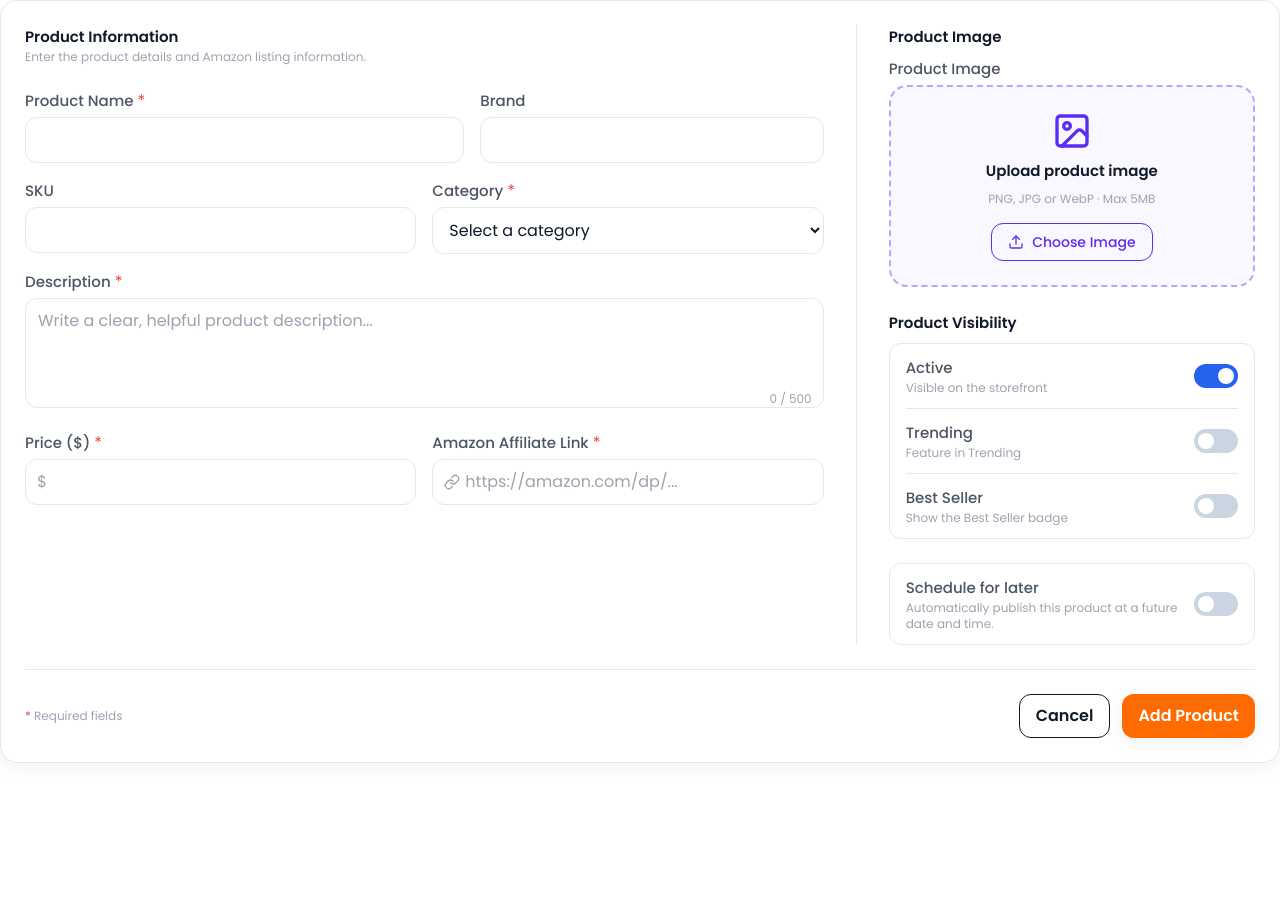
it: ProductForm › rejects a scheduled date that is not in the future
This screenshot has width=1280, height=900.
Type "Wireless Earbuds" into the field labelled "Product Name" at [245, 140], box [25, 117, 464, 163]
Select "Electronics" in the dropdown labelled "Category" at [628, 230], box [432, 207, 824, 254]
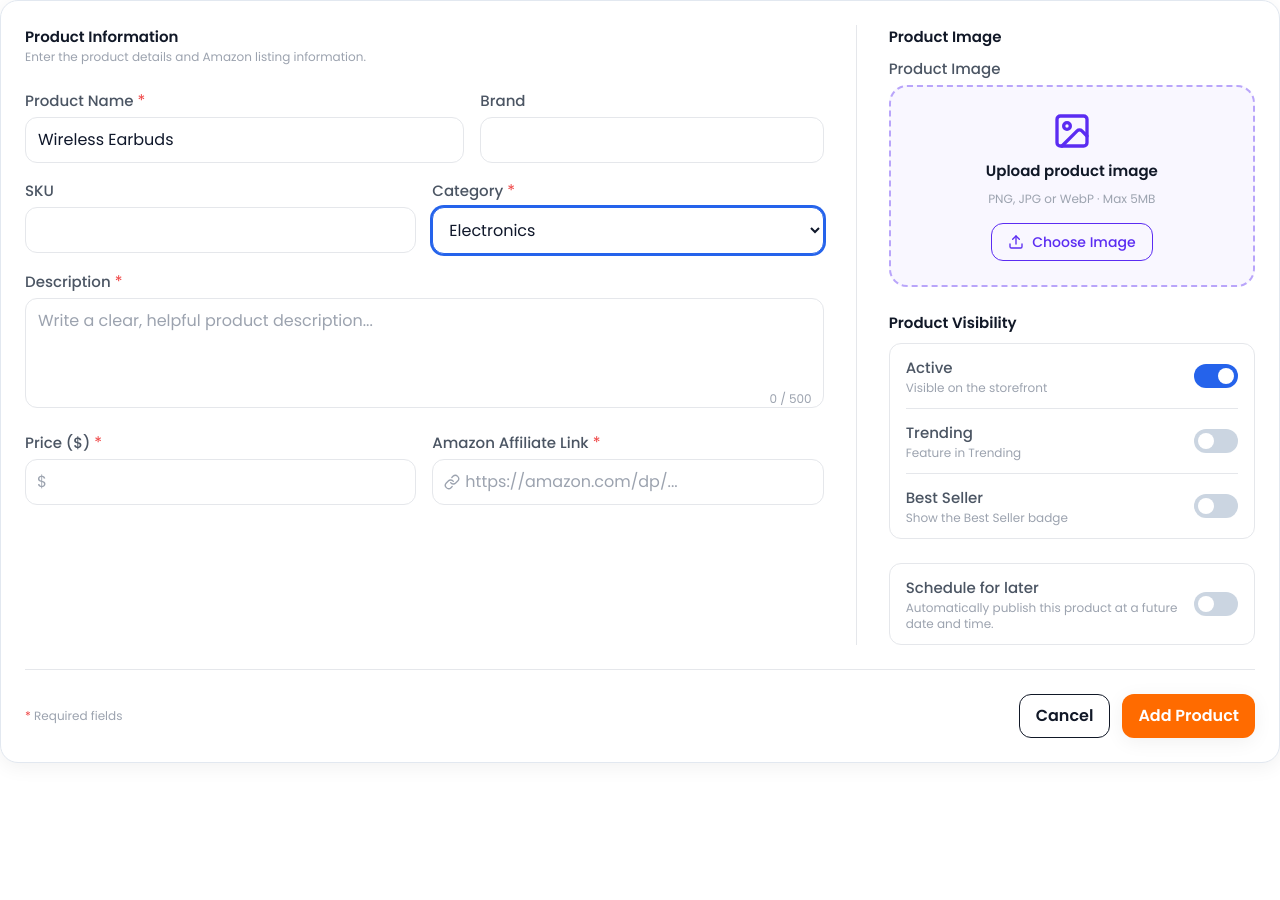
Type "Compact wireless earbuds." into the text box labelled "Description" at [424, 353], box [25, 298, 824, 408]
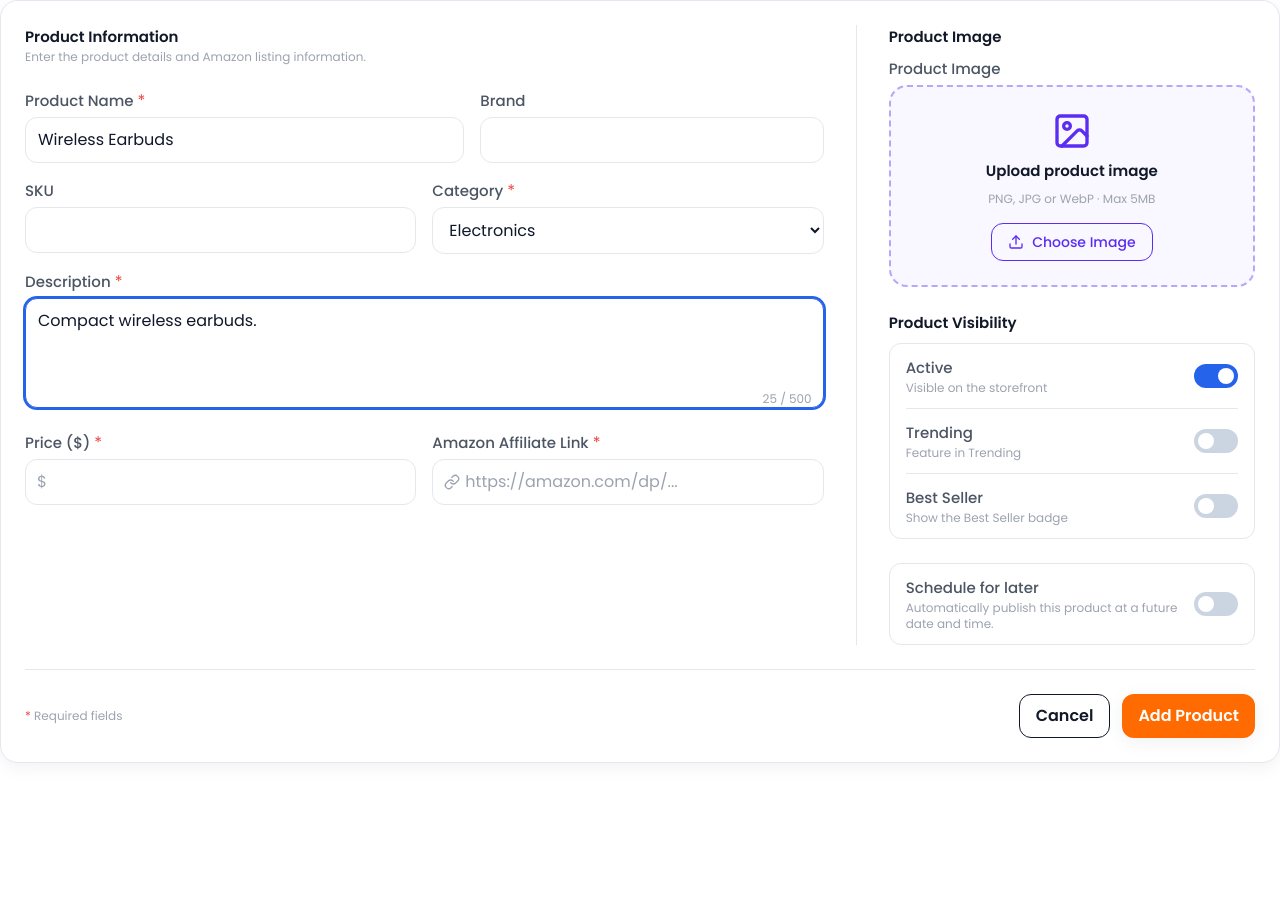
Type "49.99" into the number field labelled "Price ($)" at [221, 482], box [25, 459, 416, 505]
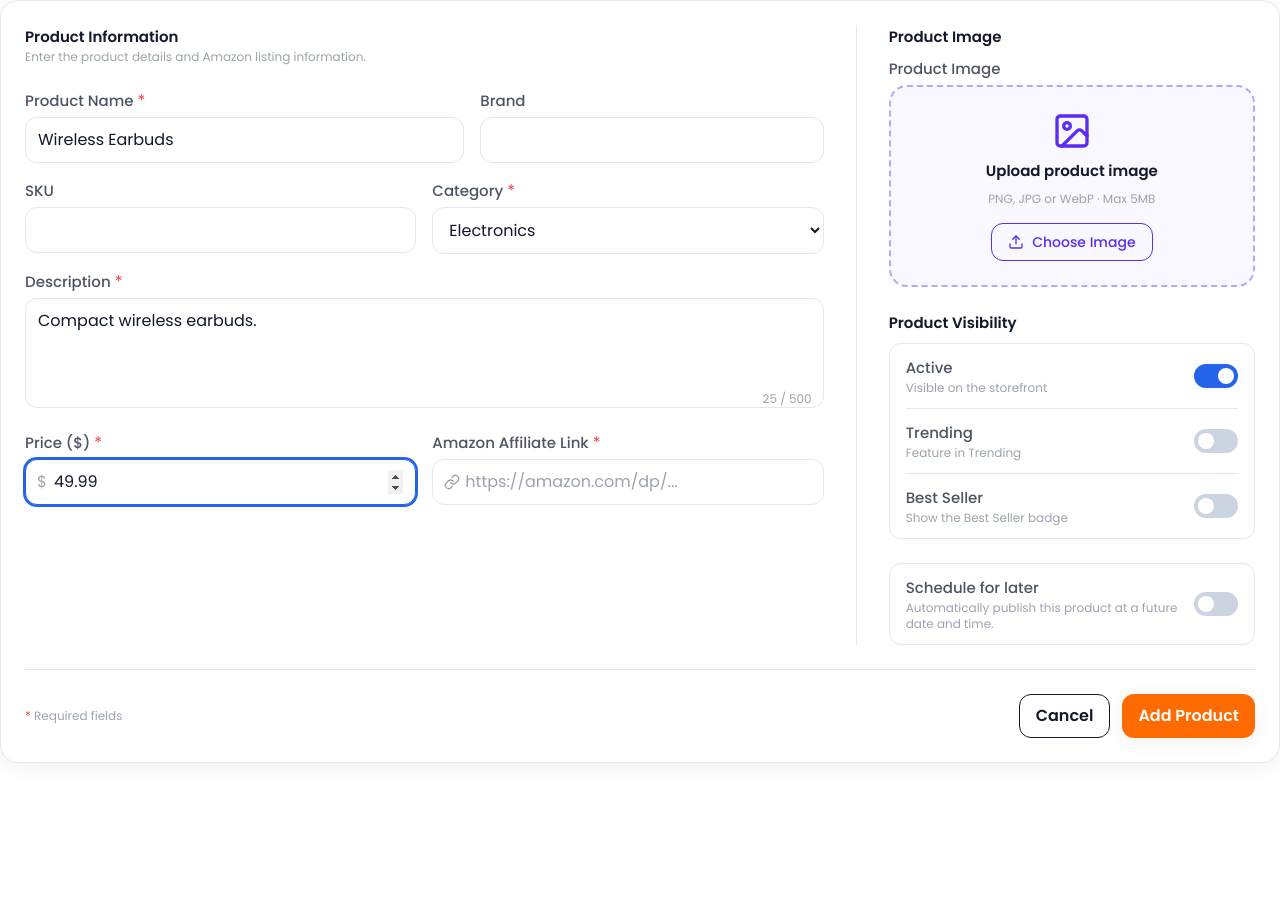
Type "https://amazon.com/dp/example" into the field labelled "Amazon Affiliate Link" at [628, 482], box [432, 459, 824, 505]
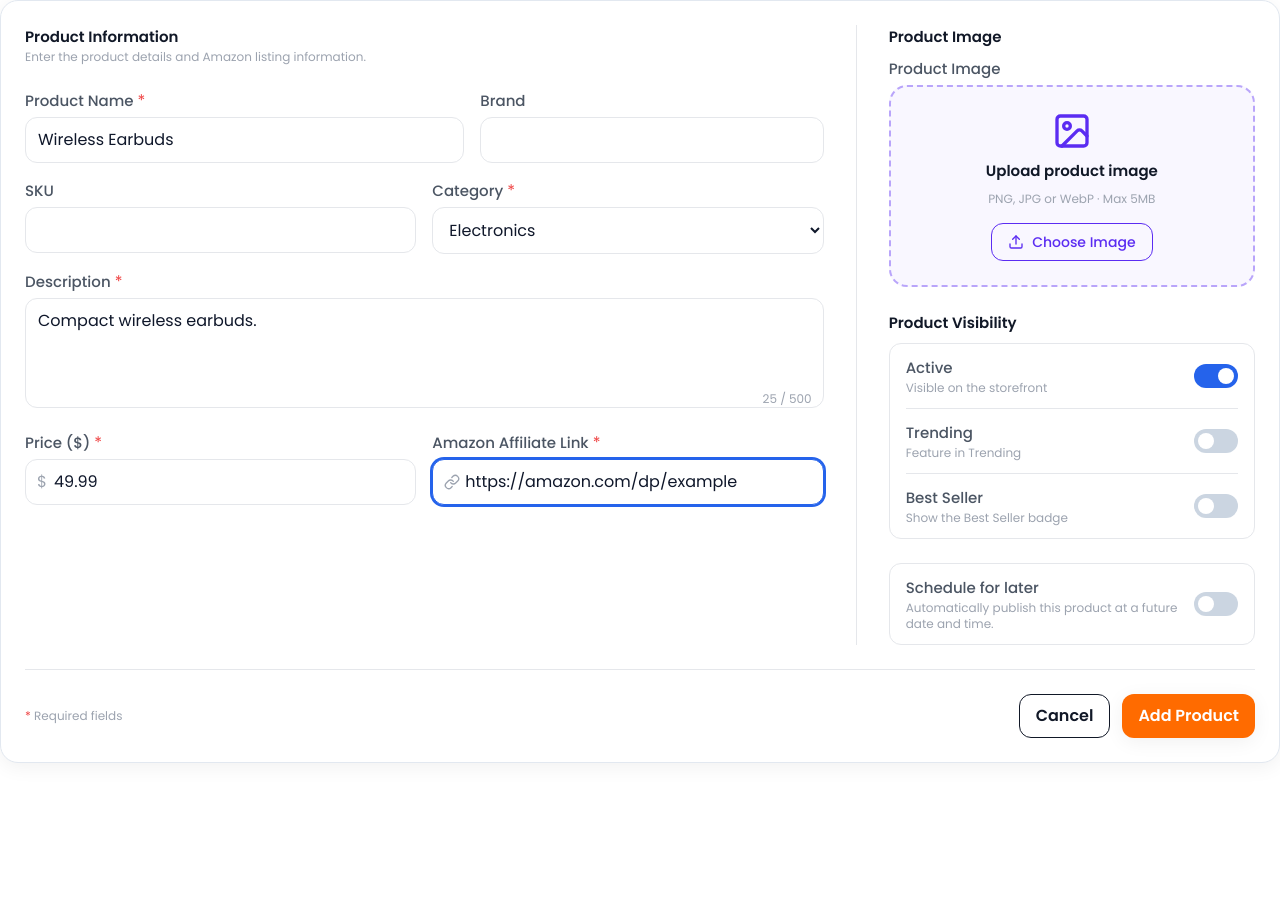
Click the switch named "Schedule for later" at [1216, 604], box [1194, 592, 1238, 616]
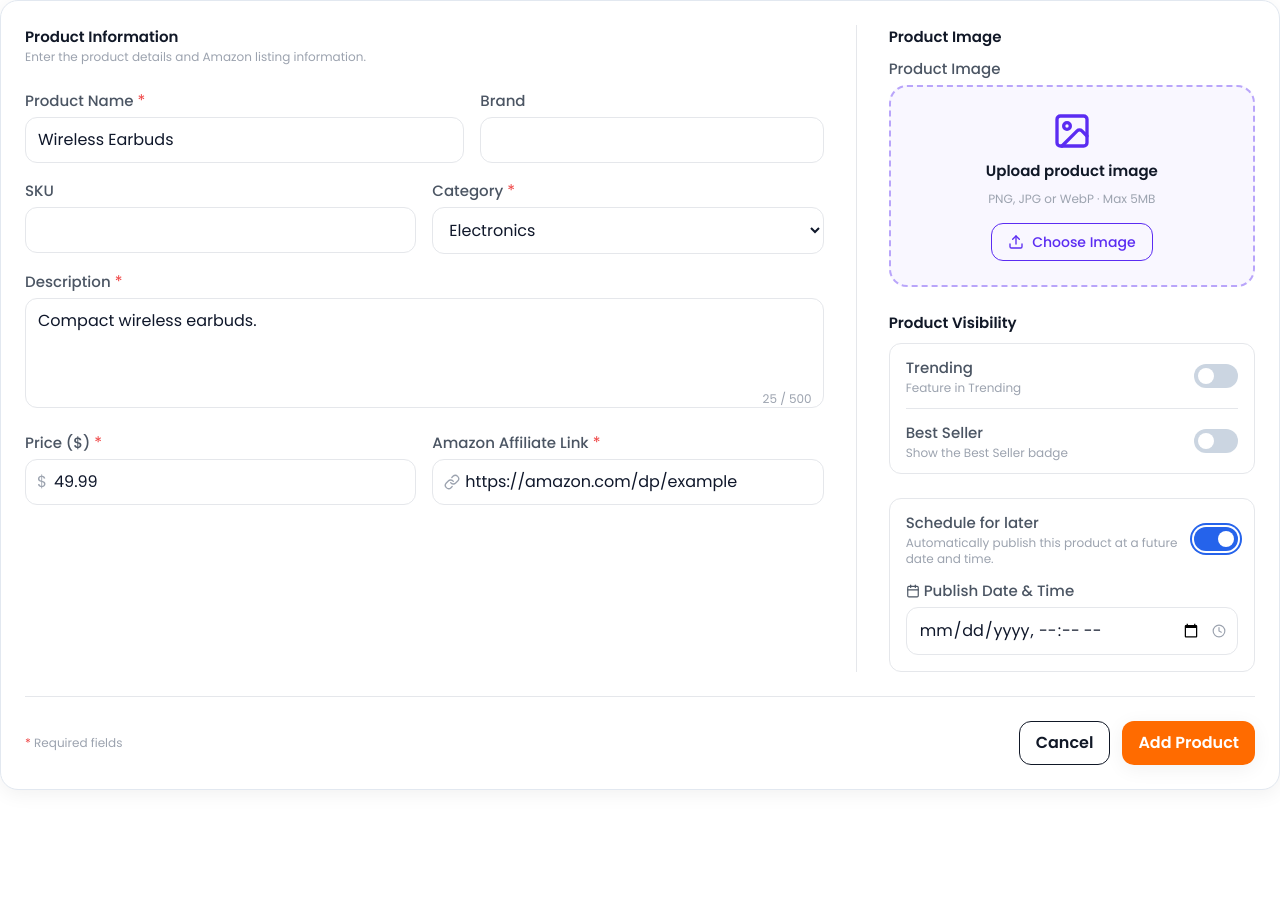
Type "2020-01-01T10:00" into the field labelled "Publish Date & Time" at [1072, 631], box [906, 607, 1238, 655]
Click the button "Add Product" at [1189, 743], box [1122, 721, 1255, 765]
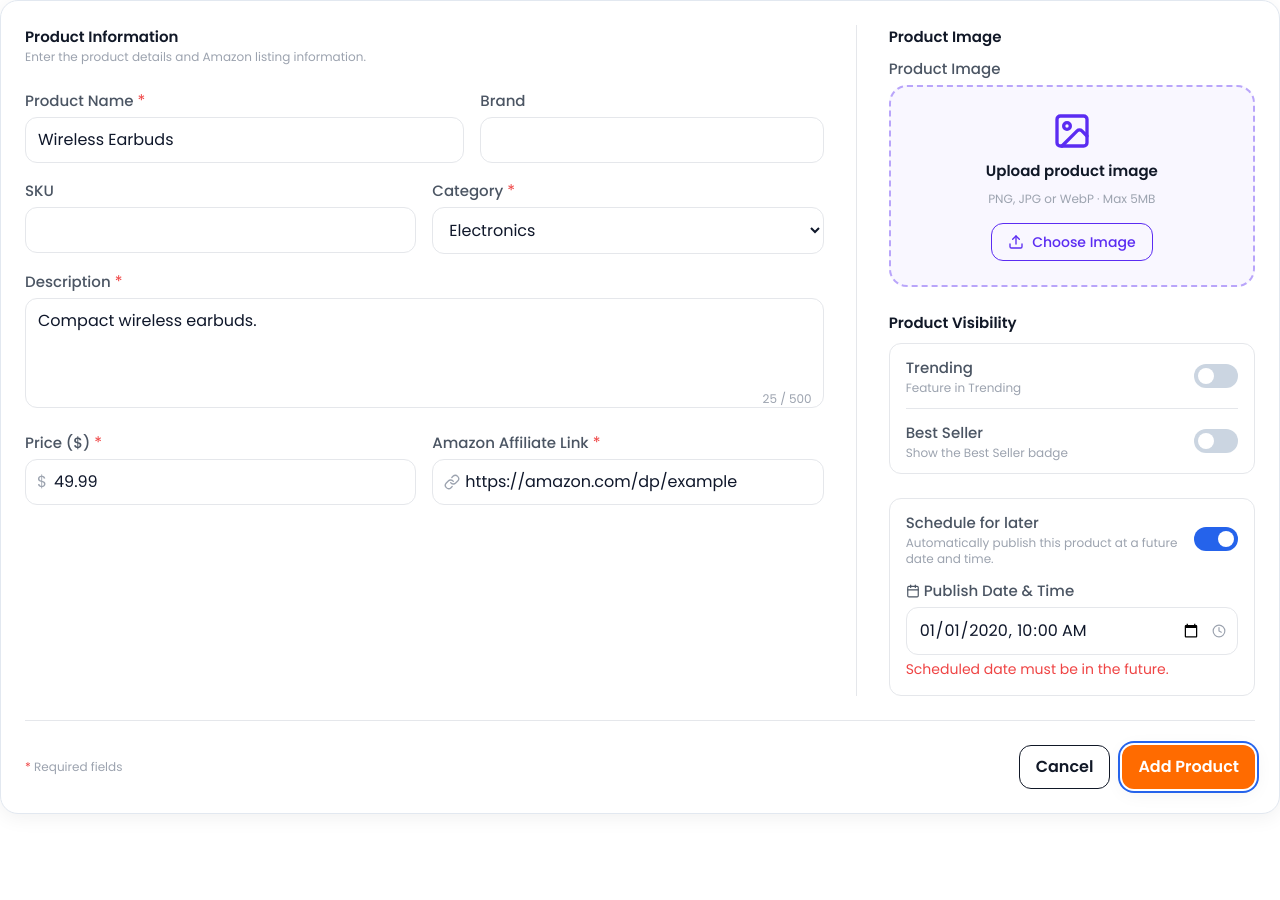
expect the text "Scheduled date must be in the future." is shown: met, box [906, 659, 1169, 679]
